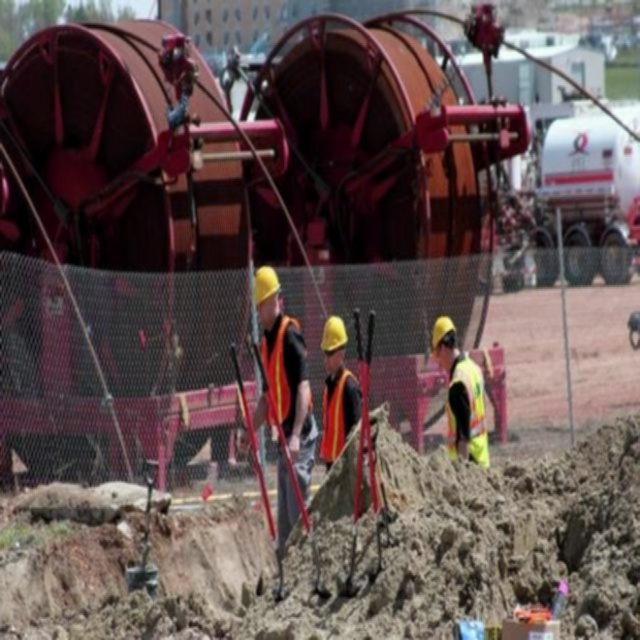Con_Casco: (431, 311, 459, 370), (255, 264, 281, 322), (321, 314, 347, 370)
Con_Chaleco: (257, 320, 311, 444), (442, 368, 489, 463), (321, 373, 362, 462)
